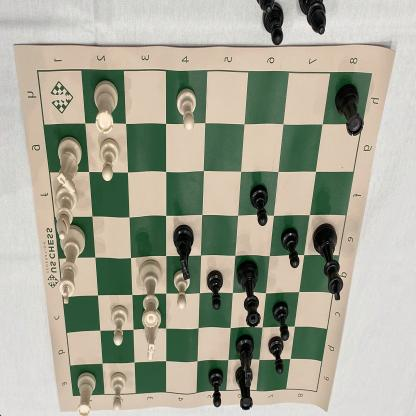black-king: (312, 221, 345, 303)
black-knight: (168, 223, 196, 281), (235, 332, 256, 388)
black-pawn: (280, 226, 302, 273), (204, 268, 226, 313), (248, 184, 269, 228), (272, 299, 290, 344), (267, 335, 285, 377), (206, 368, 224, 410)
black-queen: (234, 259, 263, 331)
black-rook: (334, 81, 365, 139), (233, 362, 255, 413)
white-bishop: (49, 185, 80, 242)
white-king: (53, 225, 86, 306)
white-knight: (52, 134, 85, 194), (140, 306, 165, 363)
white-pawn: (172, 86, 198, 135), (97, 135, 121, 186), (170, 270, 192, 314), (108, 304, 128, 349), (108, 371, 127, 414)
white-queen: (135, 258, 165, 328)
white-rook: (92, 77, 120, 134), (74, 369, 98, 416)
